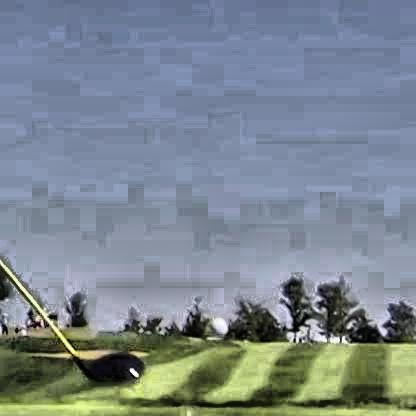golfball: (206, 315, 224, 337)
